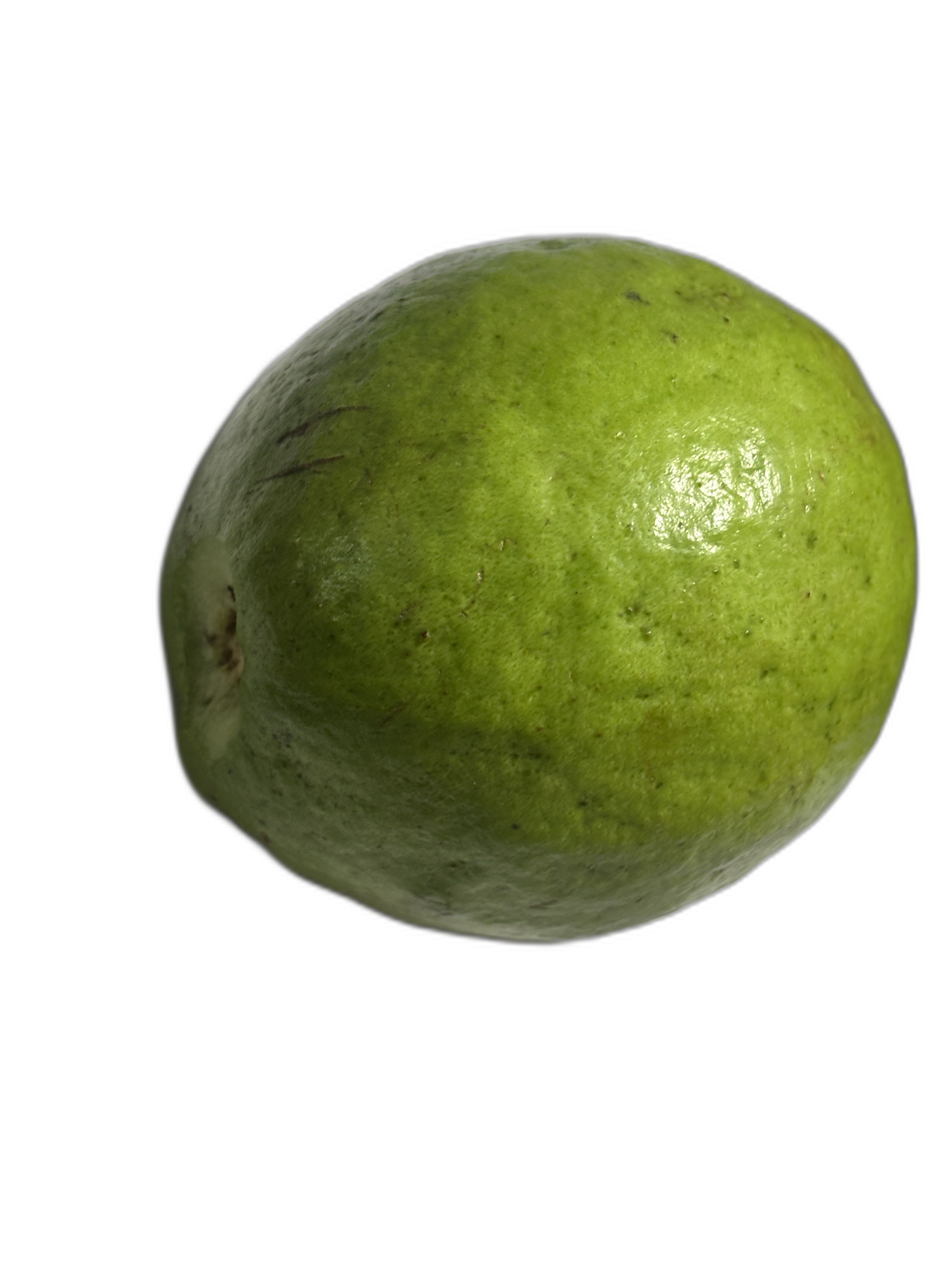guava: (35, 311, 836, 1175)
